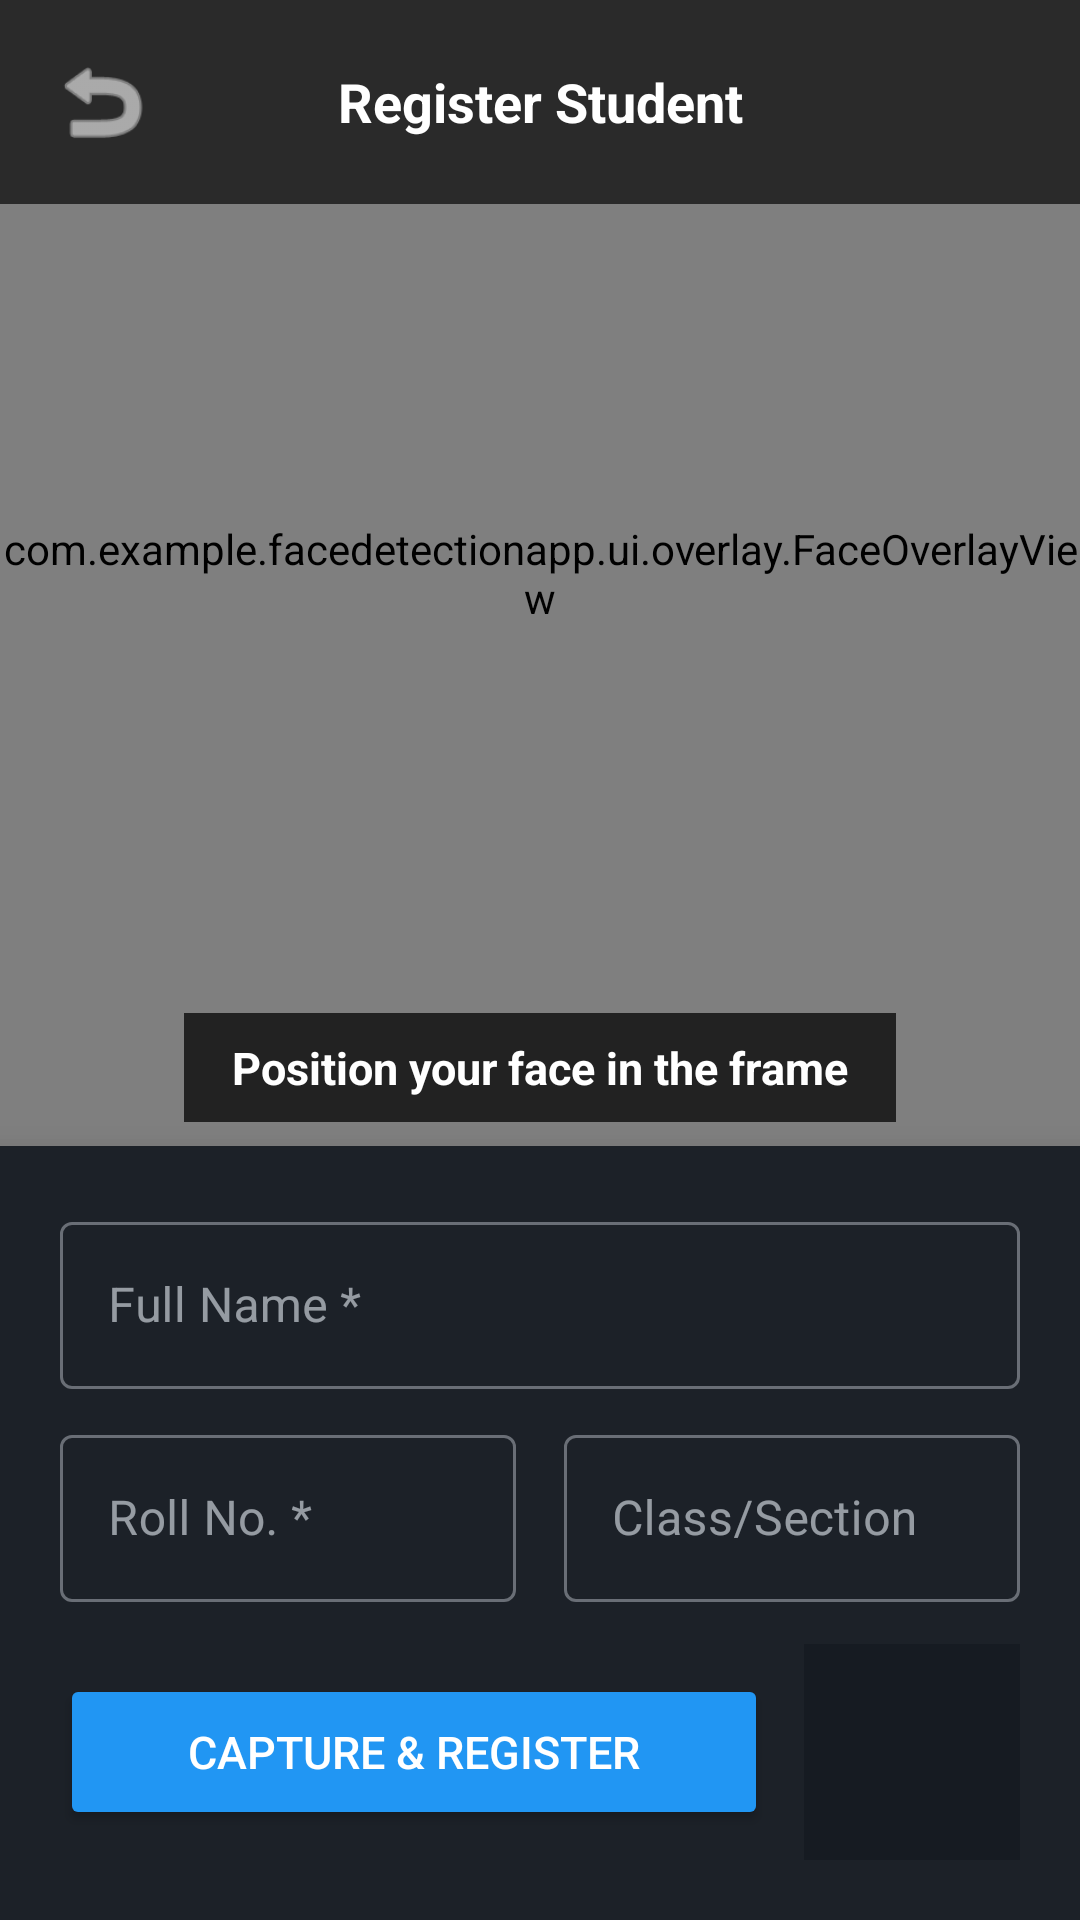

Where icons sit on this 1080px×1920px app screen, as (x1, y1, x2, y2):
revert: (64, 68, 142, 138)
